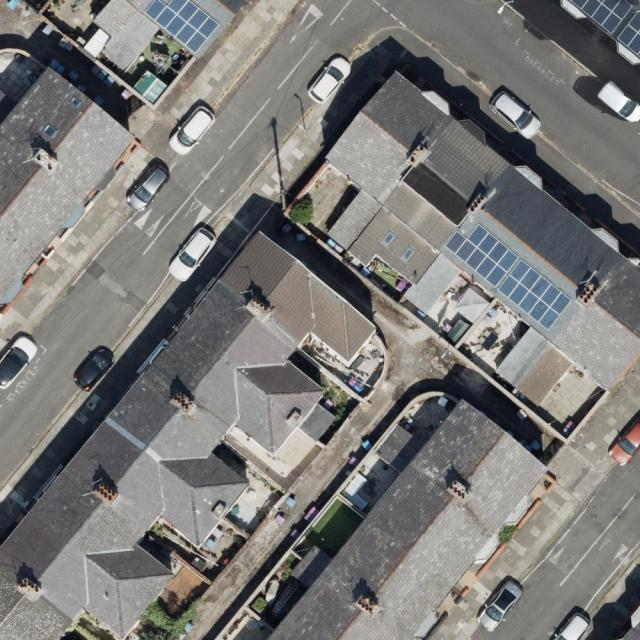roof: (0, 228, 381, 640), (318, 67, 640, 408), (265, 401, 549, 640), (0, 64, 141, 313), (90, 0, 239, 73), (567, 0, 640, 64)
skylight: (397, 243, 418, 265), (378, 228, 397, 248), (42, 120, 60, 140), (71, 94, 83, 108)
solar: (497, 260, 572, 331), (446, 224, 520, 288), (145, 0, 220, 54), (568, 0, 633, 39), (618, 8, 640, 59)
